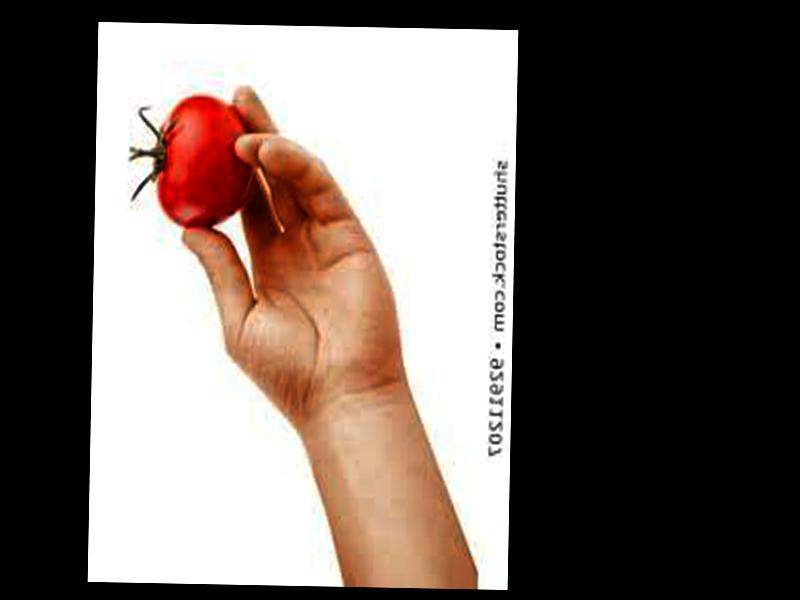Tomato: (156, 94, 255, 230)
